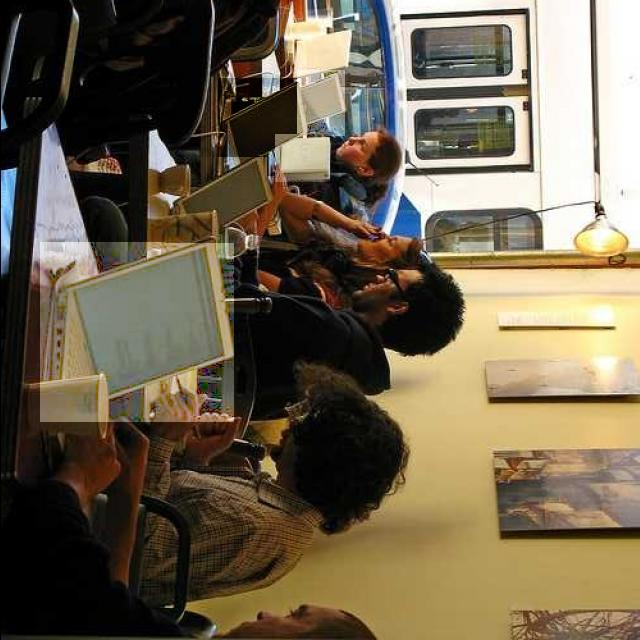-keyboard-: (40, 242, 234, 422), (165, 158, 267, 244), (218, 78, 302, 176), (298, 70, 346, 136), (275, 134, 330, 182)
